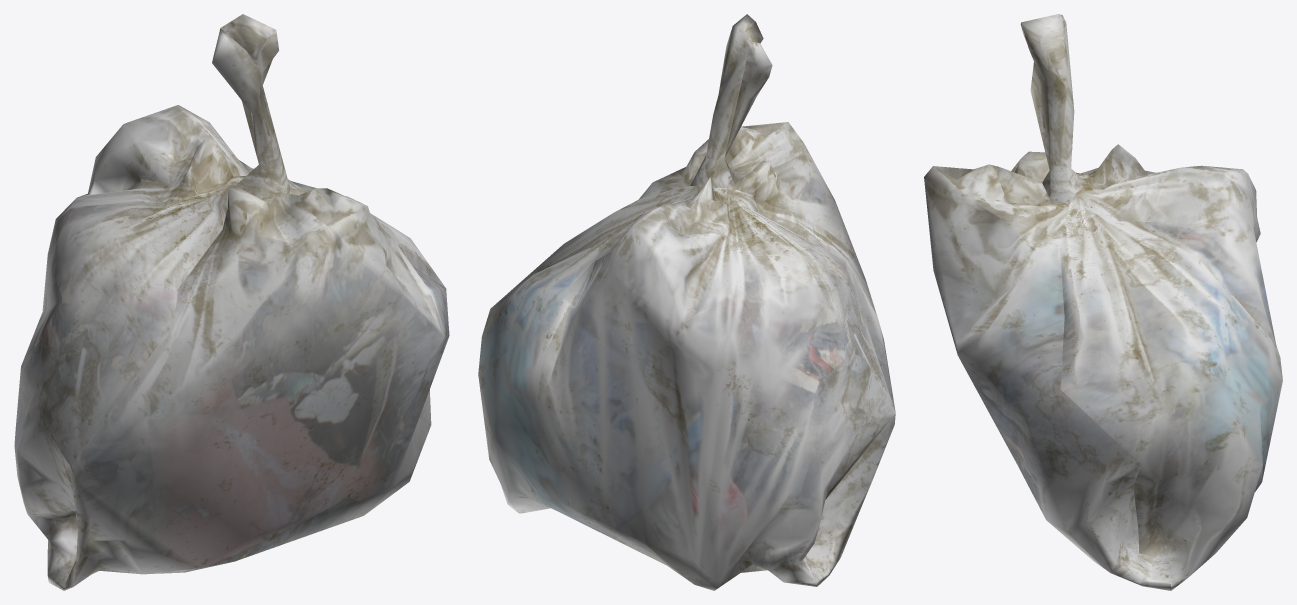
File: garbagebags01a.obj
3 views of the same model, side by side, from view 1: azimuth 30°, elevation 25°; view 2: azimuth 150°, elevation 25°; view 3: azimuth 270°, elevation 25° (orthographic). The views are drawn at different scales.
Visible parts, largest first — view 1: LODGroup_1_MainMesh_1_Submesh_1; view 2: LODGroup_1_MainMesh_1_Submesh_1; view 3: LODGroup_1_MainMesh_1_Submesh_1.
Part boxes in pixels (x1,y1,x2,y2): LODGroup_1_MainMesh_1_Submesh_1: (14, 14, 449, 590); LODGroup_1_MainMesh_1_Submesh_1: (478, 14, 895, 590); LODGroup_1_MainMesh_1_Submesh_1: (924, 14, 1282, 590).
Size of the model in its own units: 37.89 by 51.25 by 32.98.
1 material, 1 textured.
